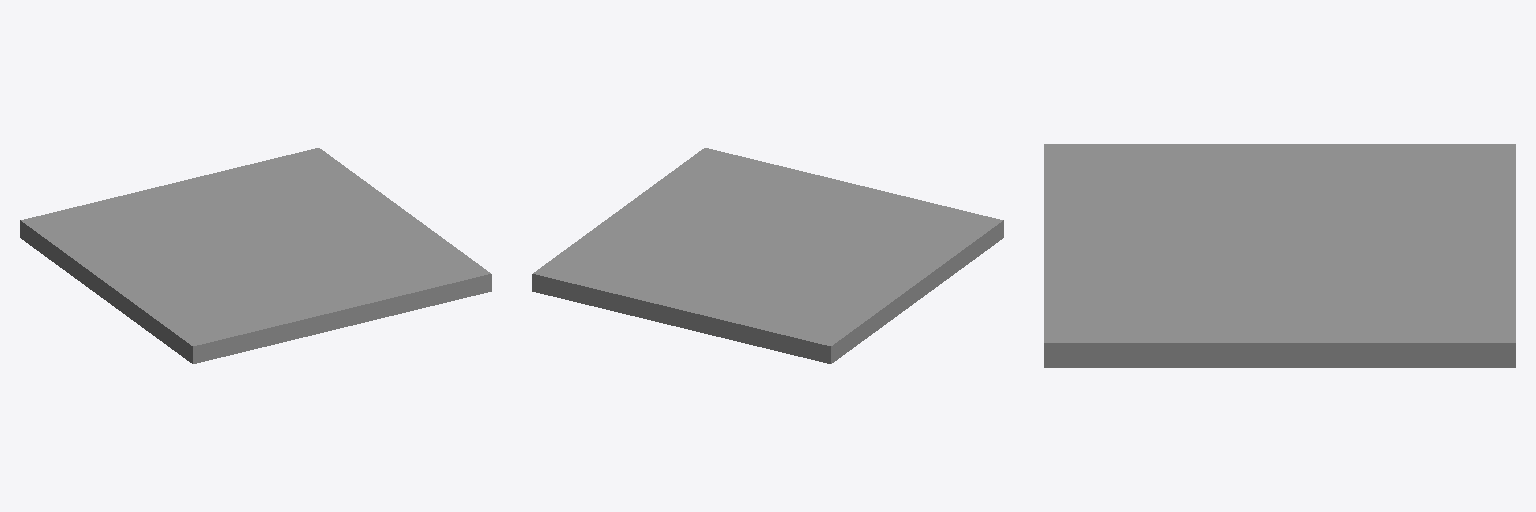
The robot description file, URDF, robot "aruco":
<robot name="aruco">

	<!-- * * * Link Definitions * * * -->

    <link name="simple_box_base_link">
 	    <inertial>
            <origin xyz="0 0 0" rpy="0 0 0"/>
            <mass value="0.1" />
            <inertia ixx="0.005" ixy="0.0" ixz="0.0" iyy="0.005" iyz="0.0" izz="0.002"/>
        </inertial>
        <collision>
            <origin xyz="0 0 0" rpy="0 0 0"/>
            <geometry>
                <box size="0.4 0.4 0.1"/>
            </geometry>
        </collision>
        <visual>
            <origin rpy="0.0 0 0" xyz="0 0 0"/>
            <geometry>
                <!--<box size="0.8 0.8 0.2"/>-->
                <mesh filename="package://ugv_visual_servoing/data/meshes/aruco_full.dae"/>
            </geometry>
        </visual>
    </link>

</robot>

--- Render facts (derived) ---
3 views of the same robot in one strip: view 1: azimuth 30°, elevation 25°; view 2: azimuth 150°, elevation 25°; view 3: azimuth 270°, elevation 25° (orthographic).
Robot: aruco — 1 links, 0 joints (none); root link simple_box_base_link; default pose: every joint at zero.
Visible links, largest first — view 1: simple_box_base_link; view 2: simple_box_base_link; view 3: simple_box_base_link.
Boxes of the visible links, bbox=[...] form: simple_box_base_link: bbox=[20, 148, 491, 363]; simple_box_base_link: bbox=[532, 148, 1003, 363]; simple_box_base_link: bbox=[1044, 144, 1515, 367].
Size in the robot's own frame: 0.7 by 0.7 by 0.04 metres.
1 mesh visuals loaded from 1 distinct referenced files (1 Collada DAE).